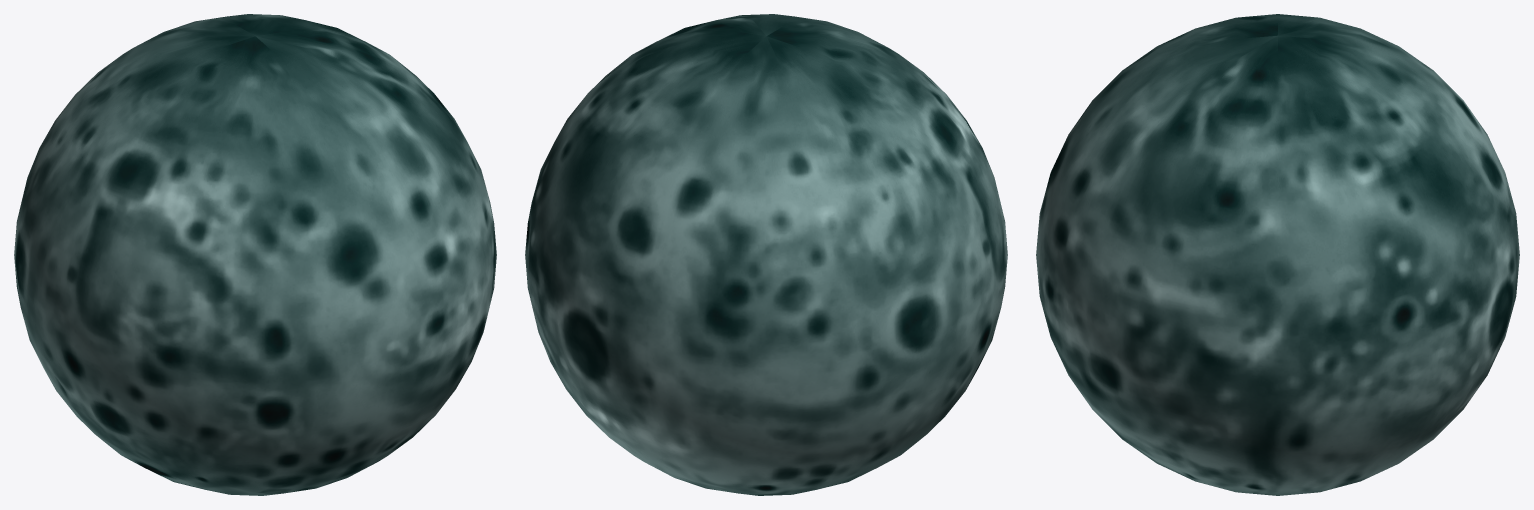
The model's file is Deimos.FBX.
3 views of the same model, side by side, from view 1: azimuth 30°, elevation 25°; view 2: azimuth 150°, elevation 25°; view 3: azimuth 270°, elevation 25° (orthographic).
Visible parts, largest first — view 1: Sphere01; view 2: Sphere01; view 3: Sphere01.
Part boxes in pixels (bbox=[...]): Sphere01: bbox=[14, 14, 496, 495]; Sphere01: bbox=[525, 14, 1007, 495]; Sphere01: bbox=[1036, 14, 1519, 495].
Bounding box in the file's own units: 40 × 40 × 40.
Materials: 1 (1 with a texture image).
